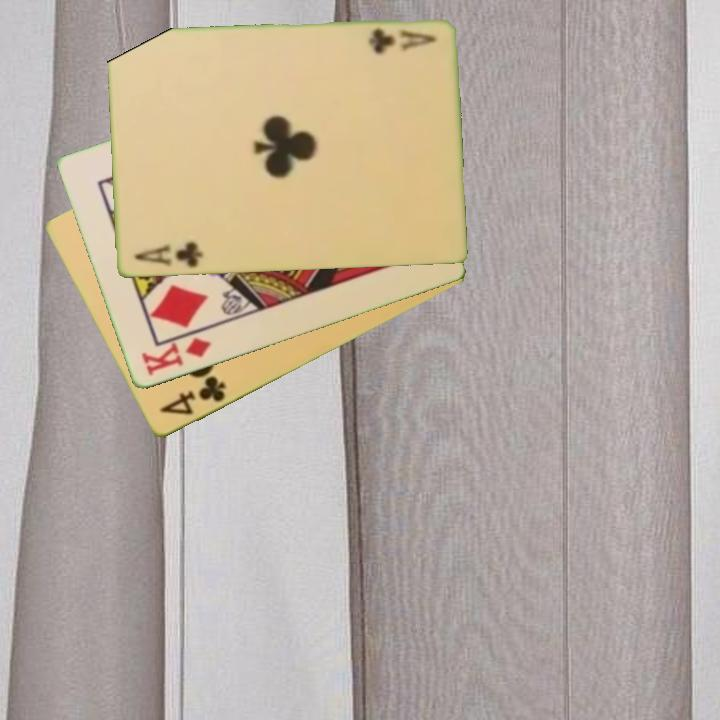4c: (155, 372, 228, 419)
Ac: (364, 25, 439, 58), (130, 239, 205, 271)
Kd: (137, 334, 215, 379)
